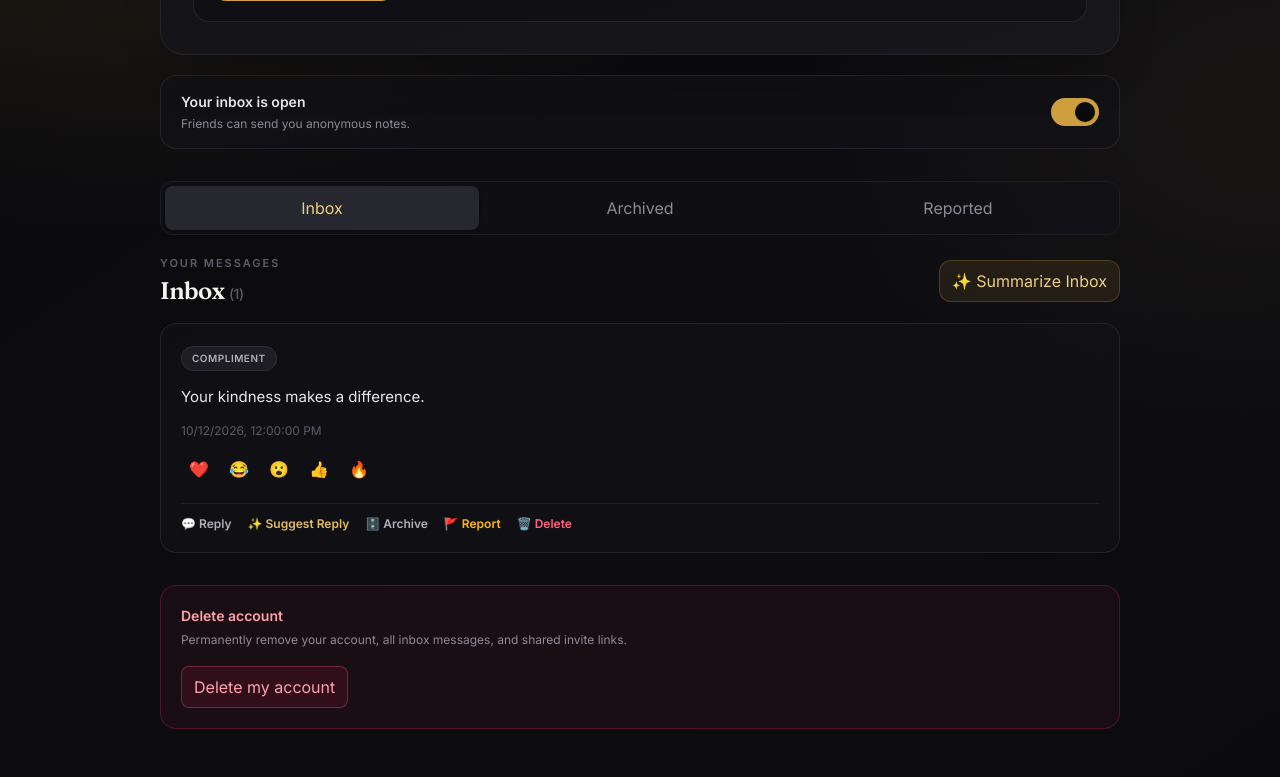
Test: inbox dashboard › times out a reaction save and restores its previous selection
This screenshot has width=1280, height=777.
(page scrolled)
expect the text "Your kindness makes a difference." is shown: met, box [181,387,425,406]
Click the button named "React with ❤️".
click(199, 469)  # box [181,451,217,487]
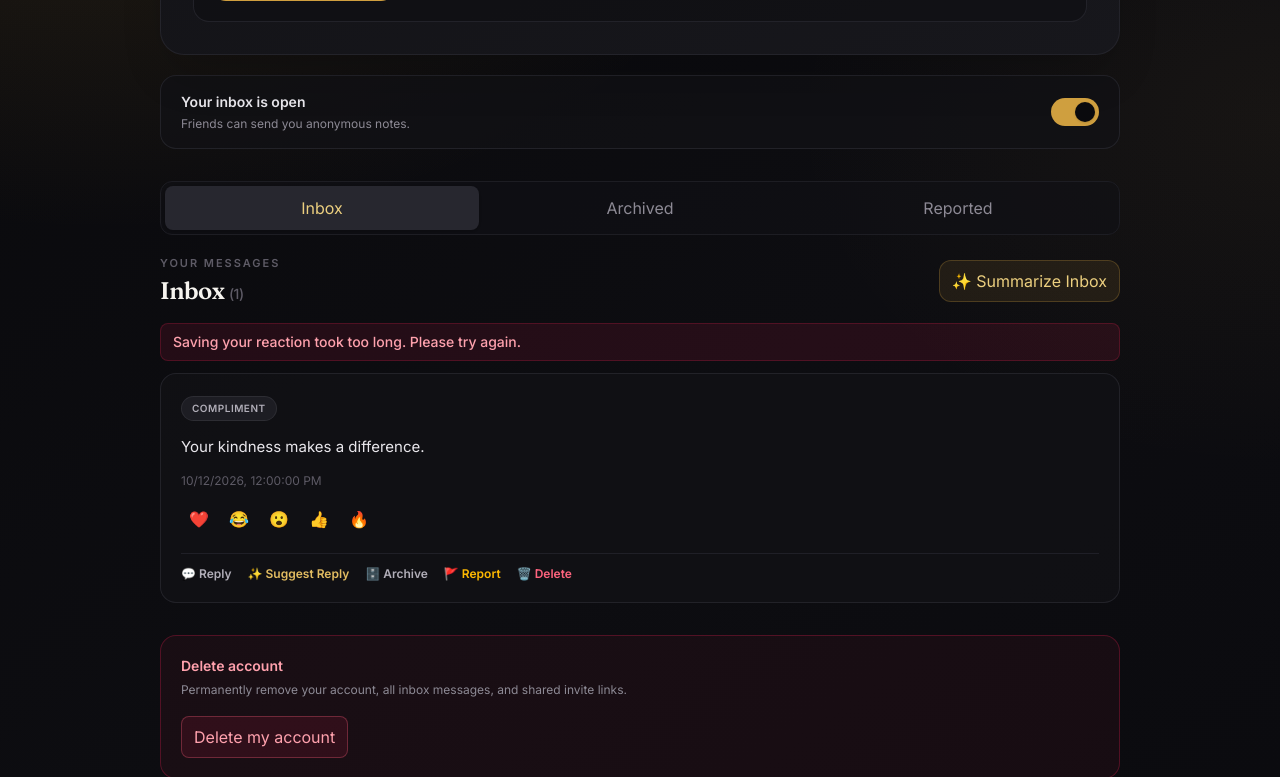
expect the message shows "took too long": met, box [173,333,521,350]
